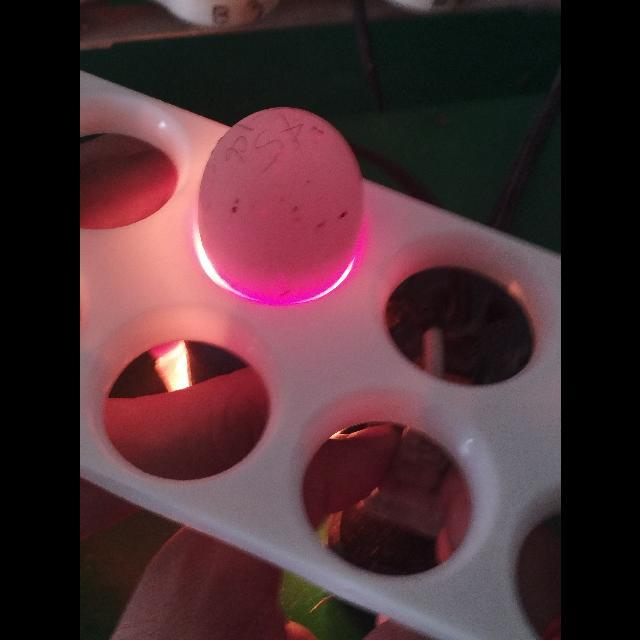Fertile: (202, 96, 364, 298)
